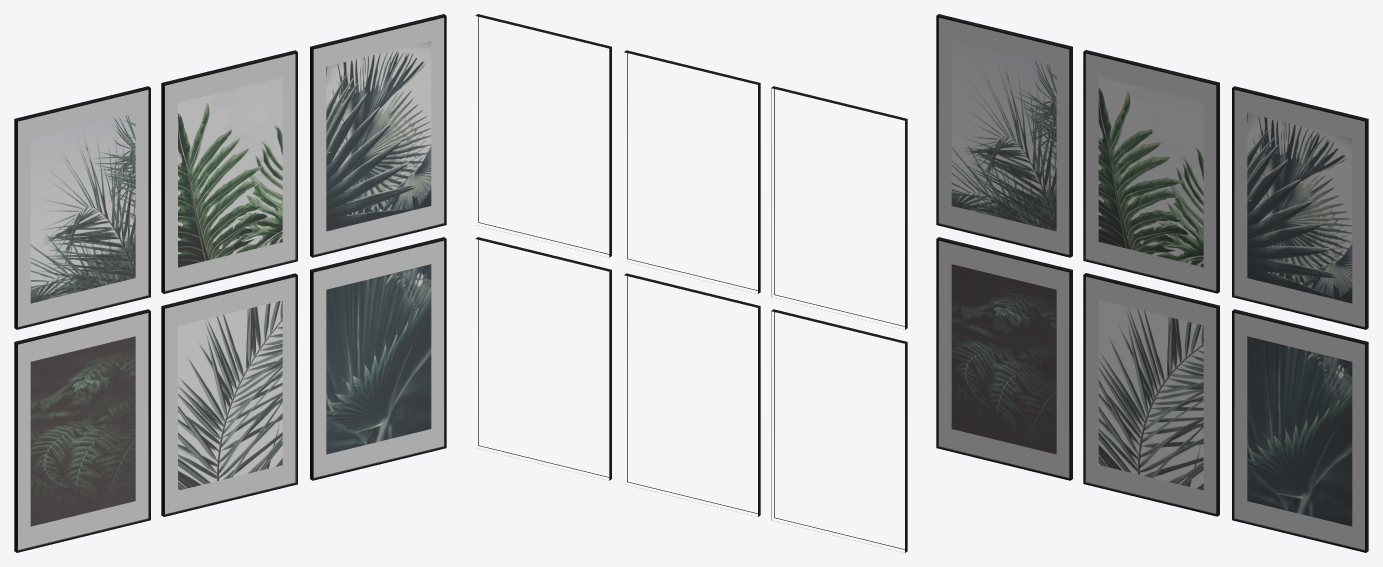
Rendered from photo-frame.glb.
The picture shows the model from 3 angles, left to right: view 1: azimuth 30°, elevation 25°; view 2: azimuth 150°, elevation 25°; view 3: azimuth 330°, elevation 25°; orthographic projection.
Parts seen in each view (by area): view 1: photo-frame.001; view 2: photo-frame.001; view 3: photo-frame.001.
Boxes of the visible parts, <box> form: photo-frame.001: <box>14,14,446,552</box>; photo-frame.001: <box>475,14,907,552</box>; photo-frame.001: <box>936,14,1368,552</box>.
Size of the model in its own units: 1.66 by 1.6 by 0.017.
9 materials, 6 textured.
